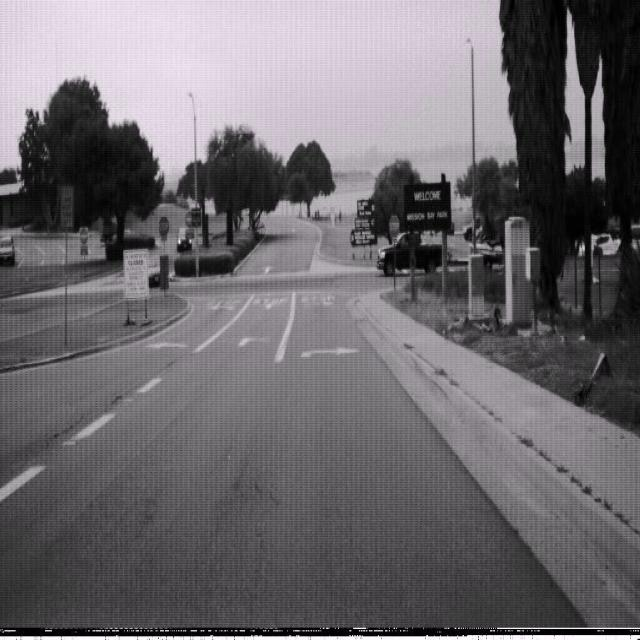stop_sign: (388, 212, 400, 237), (158, 213, 170, 238)
